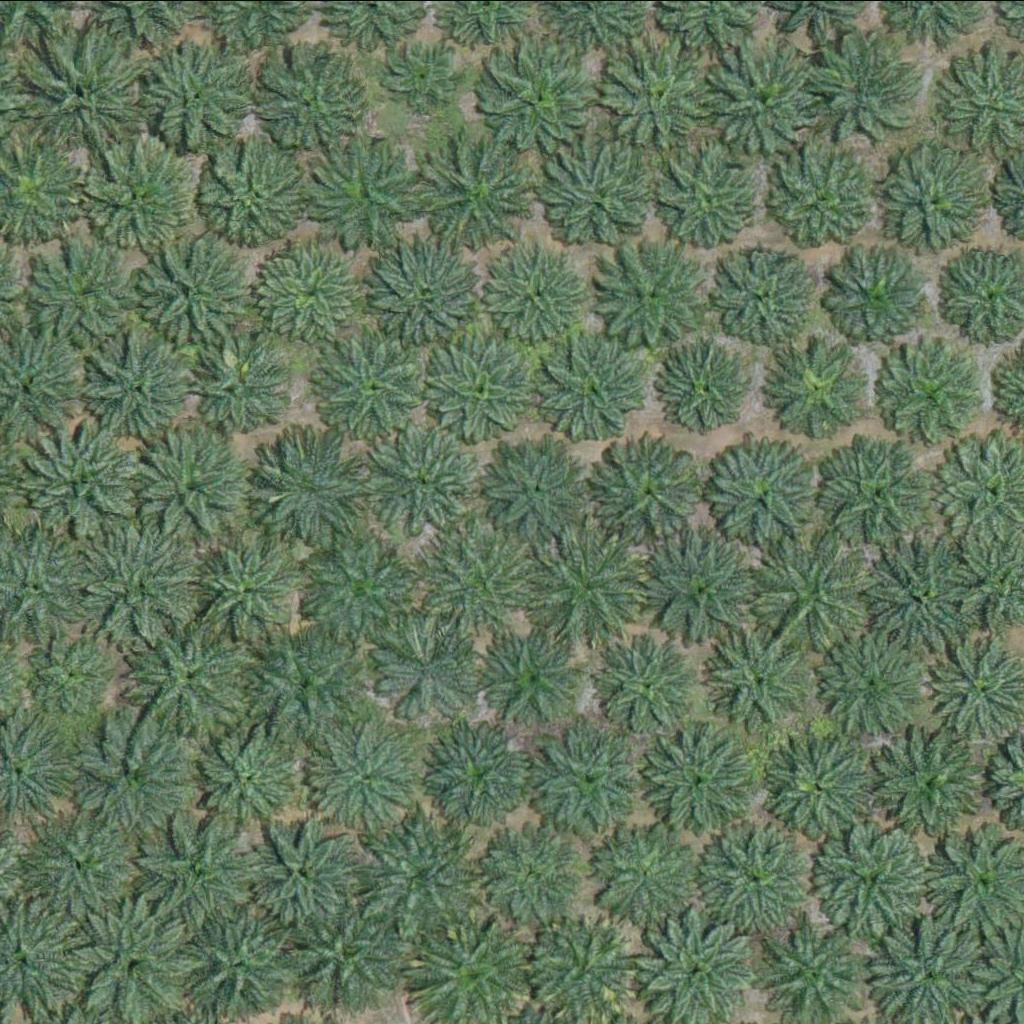Kelapa_Sawit: (129, 607, 255, 732), (24, 810, 138, 923), (427, 331, 541, 444), (482, 437, 596, 550), (871, 144, 985, 257), (249, 814, 362, 927), (145, 817, 258, 930), (429, 718, 542, 831), (81, 527, 194, 640), (258, 433, 371, 546), (138, 430, 251, 543), (34, 425, 147, 538), (317, 328, 430, 441), (481, 40, 594, 153), (31, 34, 144, 147), (597, 239, 710, 352), (751, 533, 864, 646), (864, 541, 977, 654), (640, 728, 753, 841), (636, 910, 749, 1023), (79, 717, 193, 829), (258, 629, 372, 741), (309, 534, 423, 646), (368, 420, 482, 532), (590, 438, 704, 550), (703, 443, 817, 555), (529, 529, 643, 641), (187, 907, 300, 1019), (285, 900, 398, 1012), (372, 818, 485, 930), (429, 530, 542, 642), (79, 334, 192, 446), (373, 242, 486, 354), (256, 236, 369, 348), (142, 235, 255, 347), (312, 137, 425, 249), (426, 142, 539, 254), (606, 36, 719, 148), (708, 40, 821, 152), (537, 141, 650, 253), (647, 143, 760, 255), (877, 336, 990, 448), (815, 438, 928, 550), (648, 536, 761, 648), (761, 733, 874, 845), (879, 726, 992, 838), (588, 820, 701, 932), (698, 819, 811, 931), (814, 821, 927, 933), (314, 723, 415, 823), (485, 629, 586, 729), (183, 336, 284, 436), (26, 248, 127, 348), (92, 146, 193, 246), (201, 143, 302, 243), (259, 51, 360, 151), (146, 45, 247, 145), (815, 43, 916, 143), (770, 147, 871, 247), (544, 336, 645, 436), (596, 636, 697, 736), (703, 632, 804, 732), (820, 634, 921, 734), (538, 728, 639, 828), (481, 825, 582, 925), (531, 919, 632, 1019), (197, 730, 297, 830), (382, 623, 482, 723), (193, 537, 293, 637), (488, 241, 588, 341), (716, 241, 816, 341), (825, 247, 925, 347), (658, 332, 758, 432), (768, 331, 868, 431), (36, 633, 112, 708), (386, 39, 461, 114)
